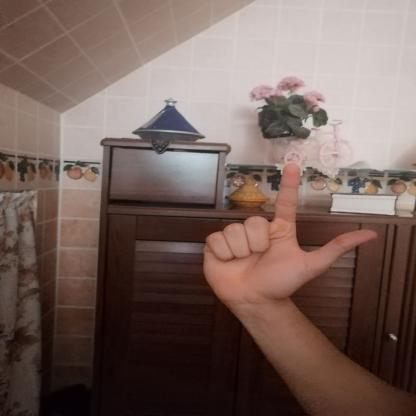LAAM: (186, 152, 388, 314)
